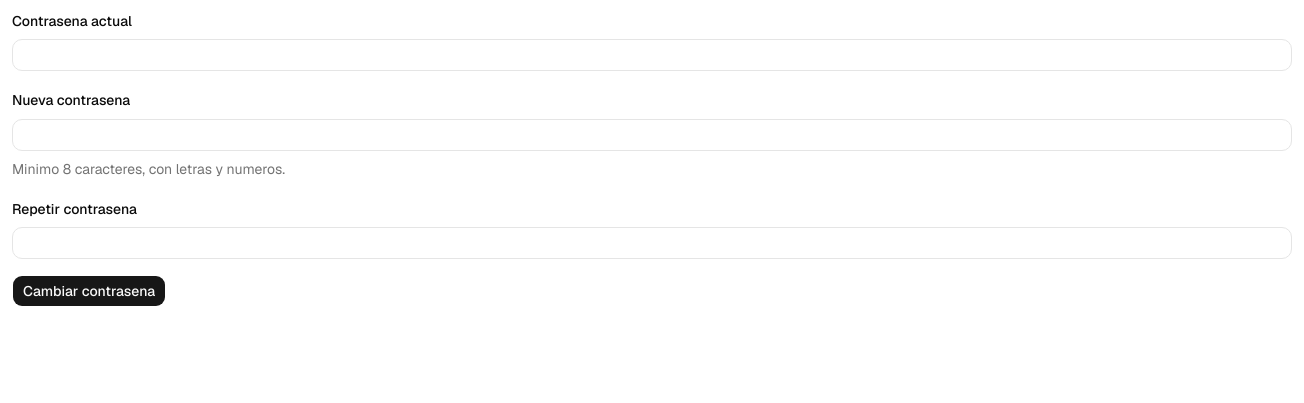
Scenario: el cambio de contrasena marca los tres campos si vuelven con error
Type "Vieja2026" into the password field labelled "Contrasena actual" at point(652, 55), box [12,39,1292,71]
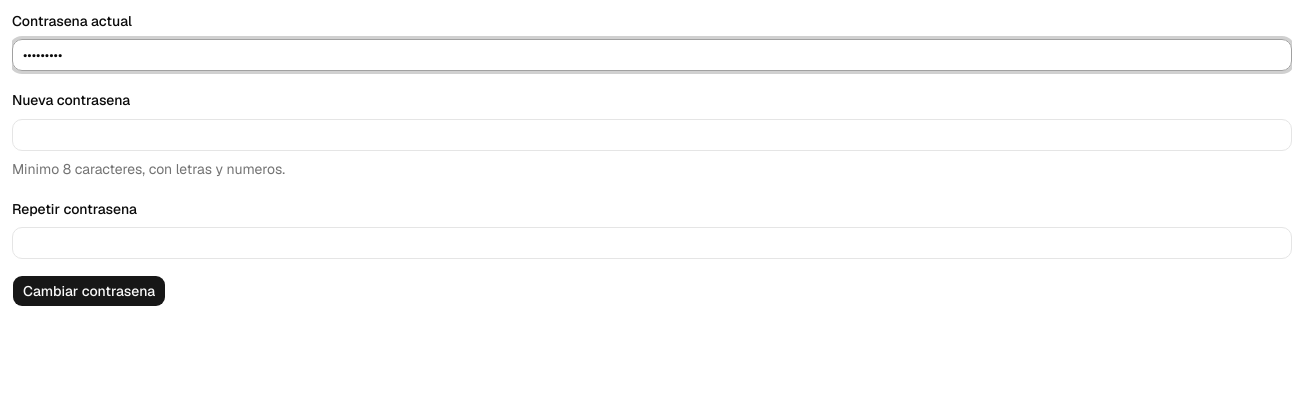
Type "Nueva2026" into the password field labelled "Nueva contrasena" at point(652, 134), box [12,118,1292,150]
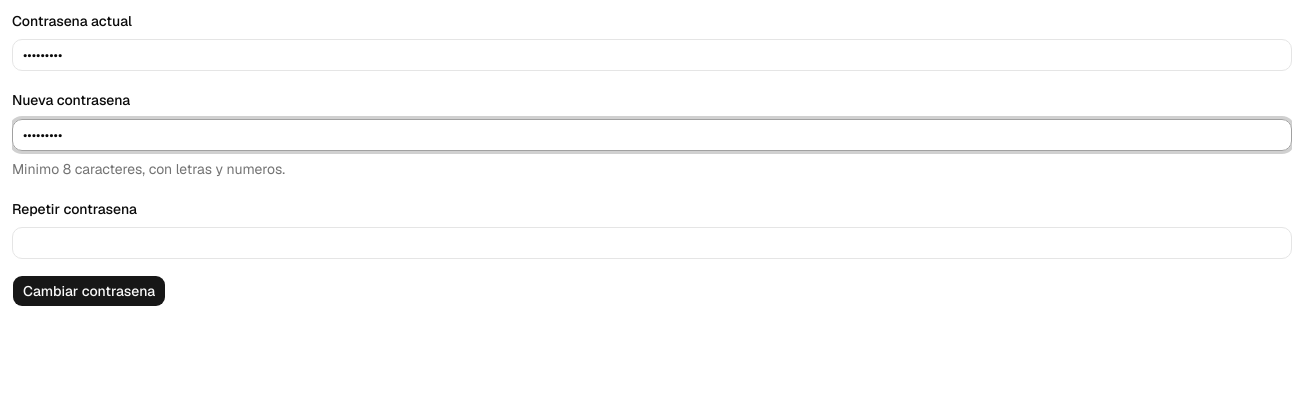
Type "Nueva2026" into the password field labelled "Repetir contrasena" at point(652, 243), box [12,227,1292,259]
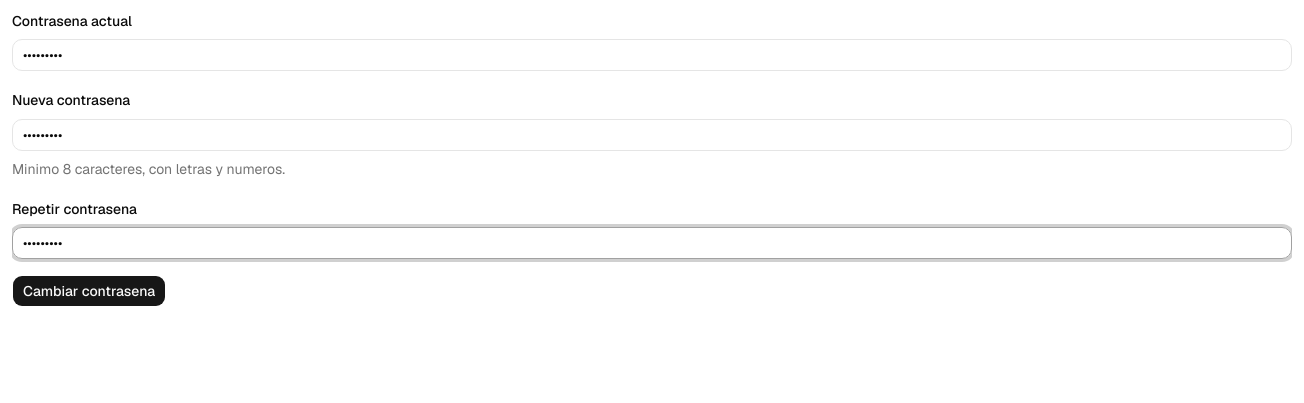
Click the button "Cambiar contrasena" at point(89, 291), box [12,275,166,307]
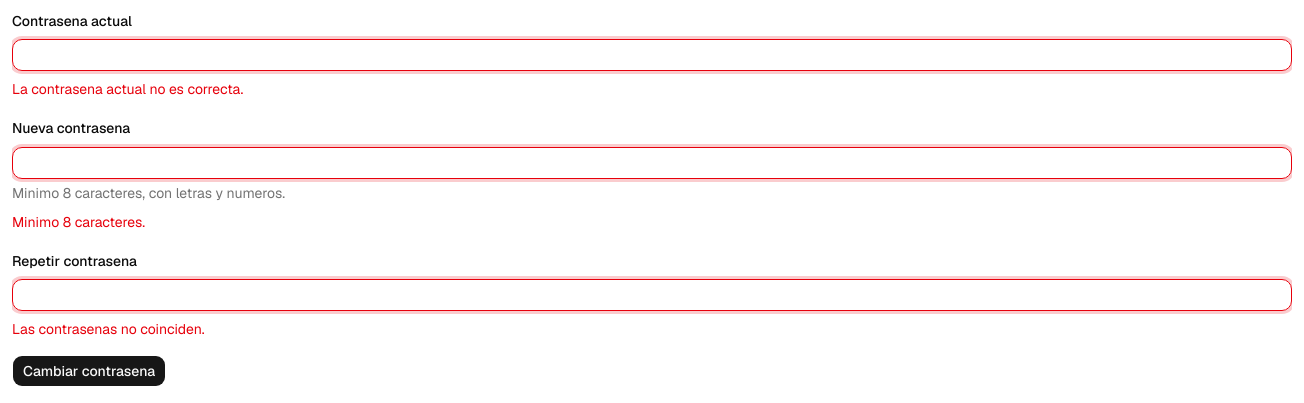
Expected: the text "La contrasena actual no es correcta." is shown, [12,80,243,98]
